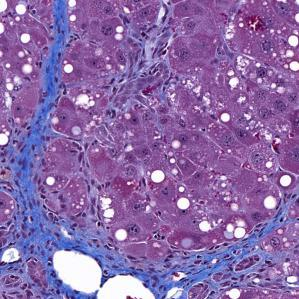fibrosis: (31, 32, 88, 164), (7, 189, 111, 261), (154, 240, 263, 295)
